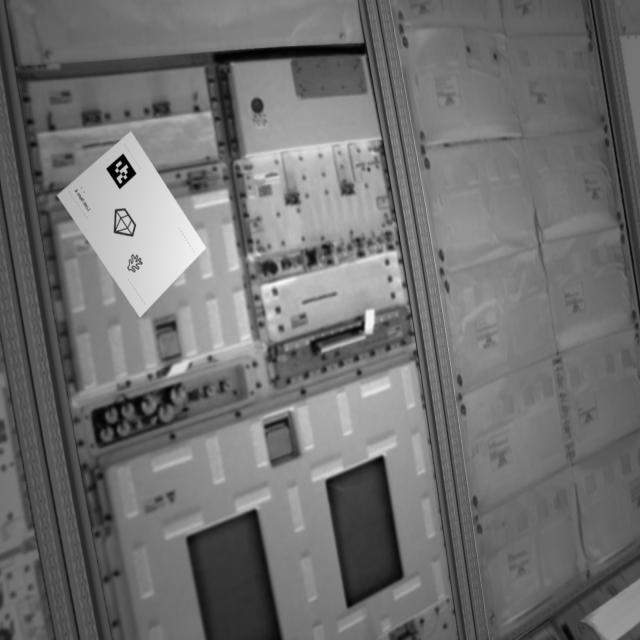coral: (122, 254, 147, 274)
diamond: (111, 209, 142, 243)
